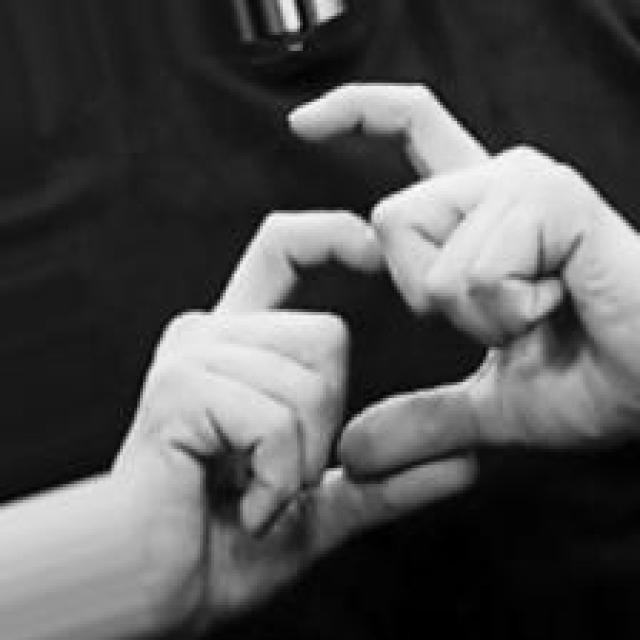G: (111, 73, 640, 640)
